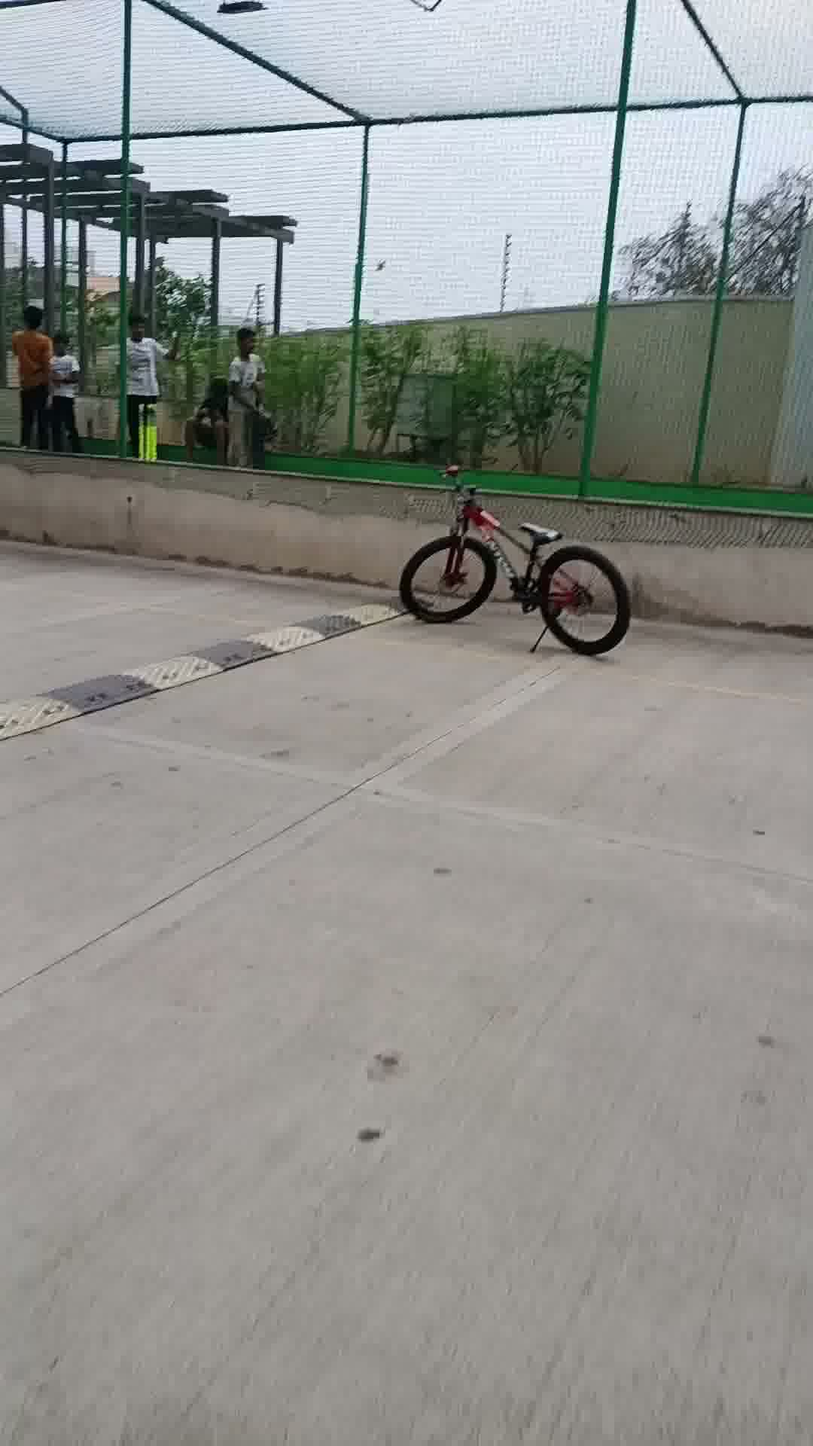bicycle: (404, 418, 629, 714)
person: (107, 292, 178, 461), (222, 313, 281, 461), (51, 319, 88, 450), (31, 306, 56, 453)
